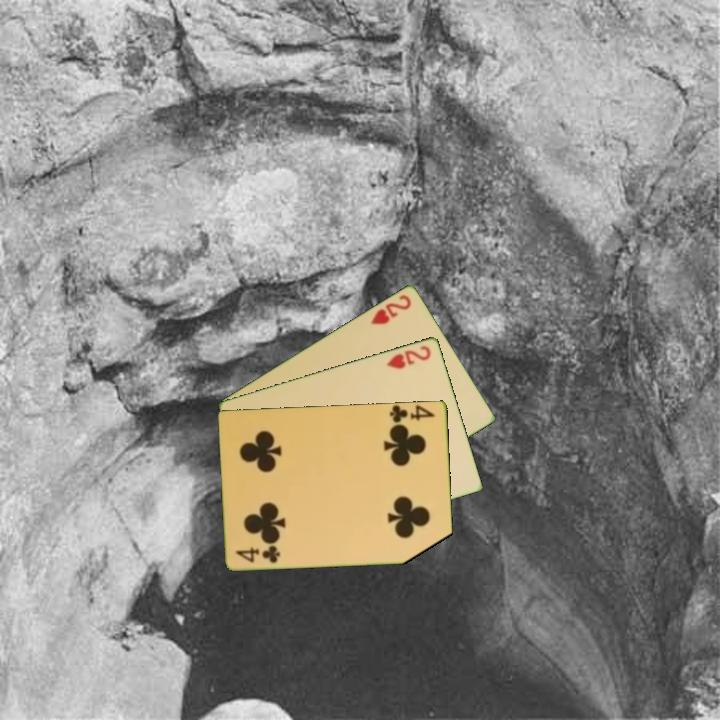2h: (367, 291, 414, 327), (383, 342, 434, 372)
4c: (386, 402, 437, 425), (233, 543, 284, 566)
